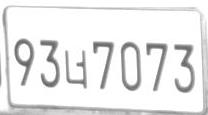0: (120, 41, 140, 91)
3: (173, 43, 195, 93), (40, 39, 60, 87)
7: (92, 40, 114, 89), (146, 42, 167, 91)
9: (13, 37, 35, 86)
너: (63, 49, 88, 88)
